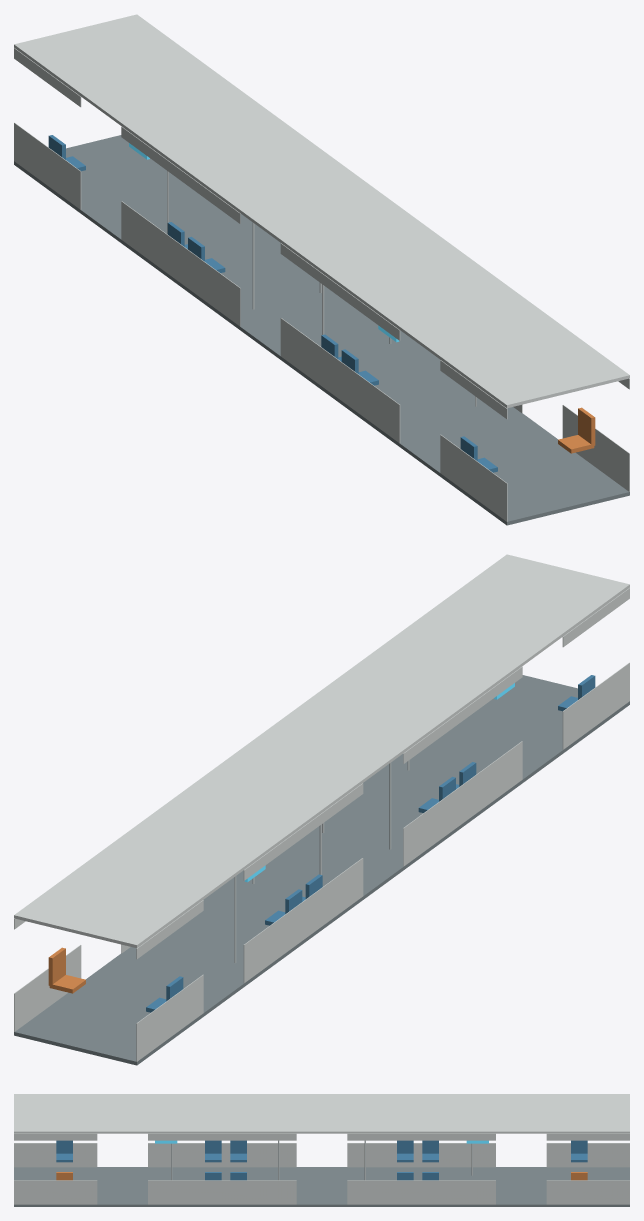
File: expo-metro-shared-interior.lod1.glb
3 renders of one model, top to bottom at view 1: azimuth 30°, elevation 25°; view 2: azimuth 150°, elevation 25°; view 3: azimuth 270°, elevation 25°, orthographic. The views are drawn at different scales.
Parts seen in each view (by area): view 1: interior-batch-metro-wall, interior-batch-metro-floor, interior-batch-metro-seat, interior-batch-metro-priority-seat; view 2: interior-batch-metro-wall, interior-batch-metro-floor, interior-batch-metro-seat, interior-batch-metro-priority-seat, interior-batch-metro-rail; view 3: interior-batch-metro-wall, interior-batch-metro-floor, interior-batch-metro-seat, interior-batch-metro-priority-seat, interior-batch-metro-rail, interior-batch-metro-screen.
Part boxes in pixels (bbox=[...]): interior-batch-metro-wall: bbox=[14, 14, 629, 521]; interior-batch-metro-floor: bbox=[14, 135, 629, 525]; interior-batch-metro-seat: bbox=[48, 135, 497, 472]; interior-batch-metro-priority-seat: bbox=[558, 407, 595, 453]; interior-batch-metro-wall: bbox=[14, 554, 629, 1061]; interior-batch-metro-floor: bbox=[14, 675, 629, 1065]; interior-batch-metro-seat: bbox=[146, 675, 595, 1012]; interior-batch-metro-priority-seat: bbox=[48, 947, 85, 993]; interior-batch-metro-rail: bbox=[234, 760, 409, 963]; interior-batch-metro-wall: bbox=[14, 1094, 629, 1204]; interior-batch-metro-floor: bbox=[14, 1167, 629, 1206]; interior-batch-metro-seat: bbox=[56, 1140, 587, 1180]; interior-batch-metro-priority-seat: bbox=[56, 1172, 587, 1180]; interior-batch-metro-rail: bbox=[171, 1140, 472, 1180]; interior-batch-metro-screen: bbox=[155, 1140, 488, 1143].
Bounding box in the file's own units: 2.45 × 2.29 × 17.
